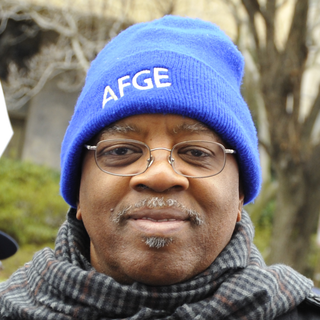eye: (175, 142, 217, 165), (102, 141, 140, 162)
